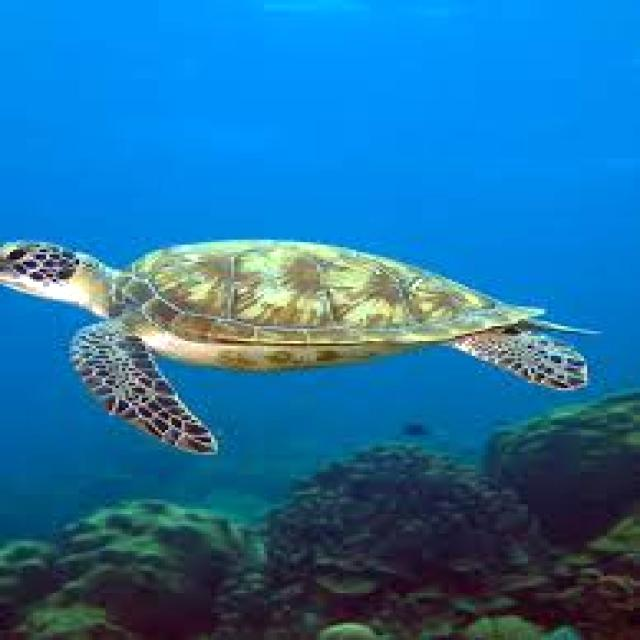Sea turtle: (0, 227, 627, 442)
